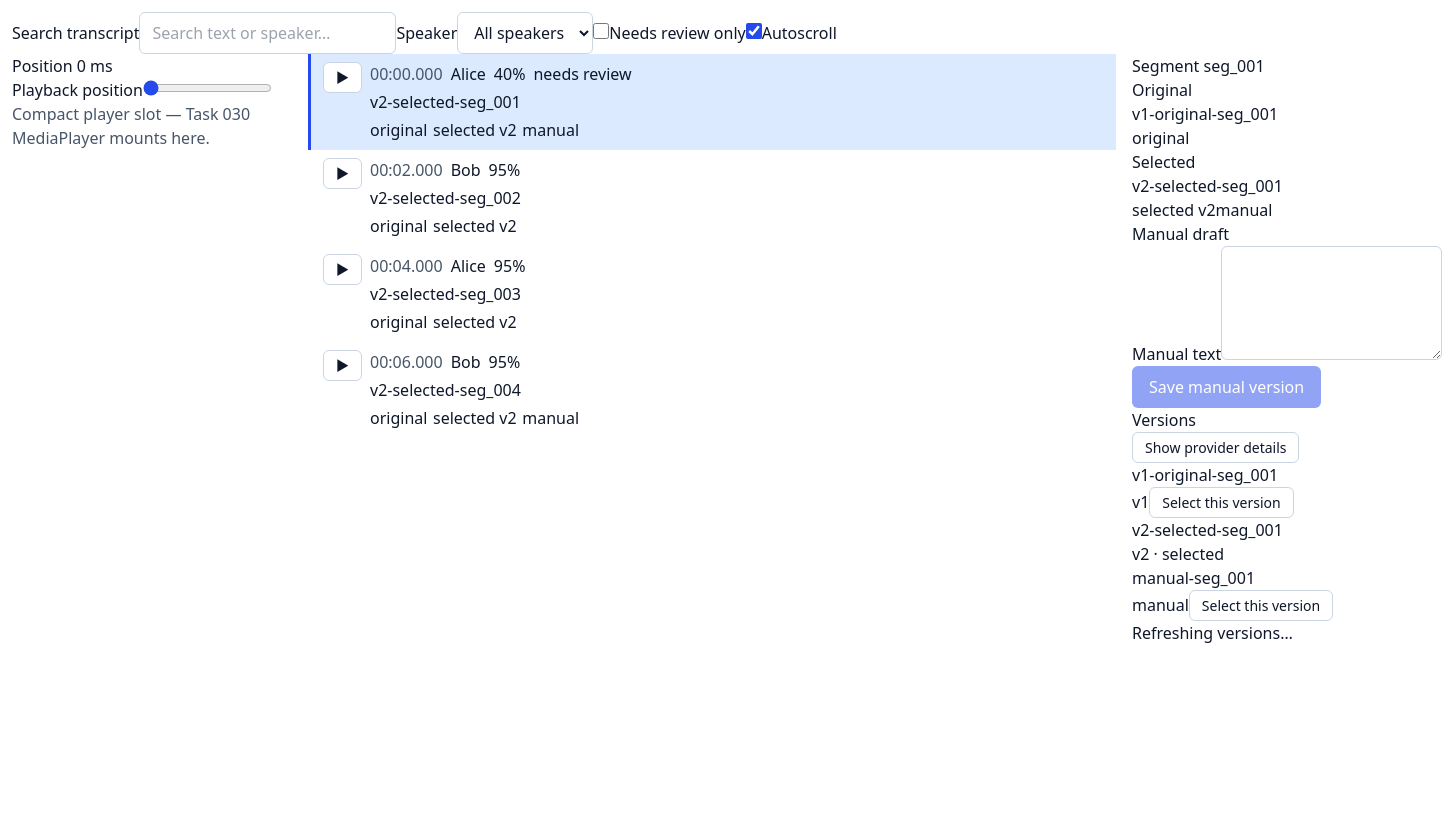
it: select-version flow (R2) › shows the stale banner, refetches, and keeps the draft on 409
expect the option with test id "transcript-row-seg_001" is shown: met, box [308,54,1116,150]
Type "keep me" into the text box with test id "transcript-manual-draft" at (1332, 303), box [1221,246,1442,360]
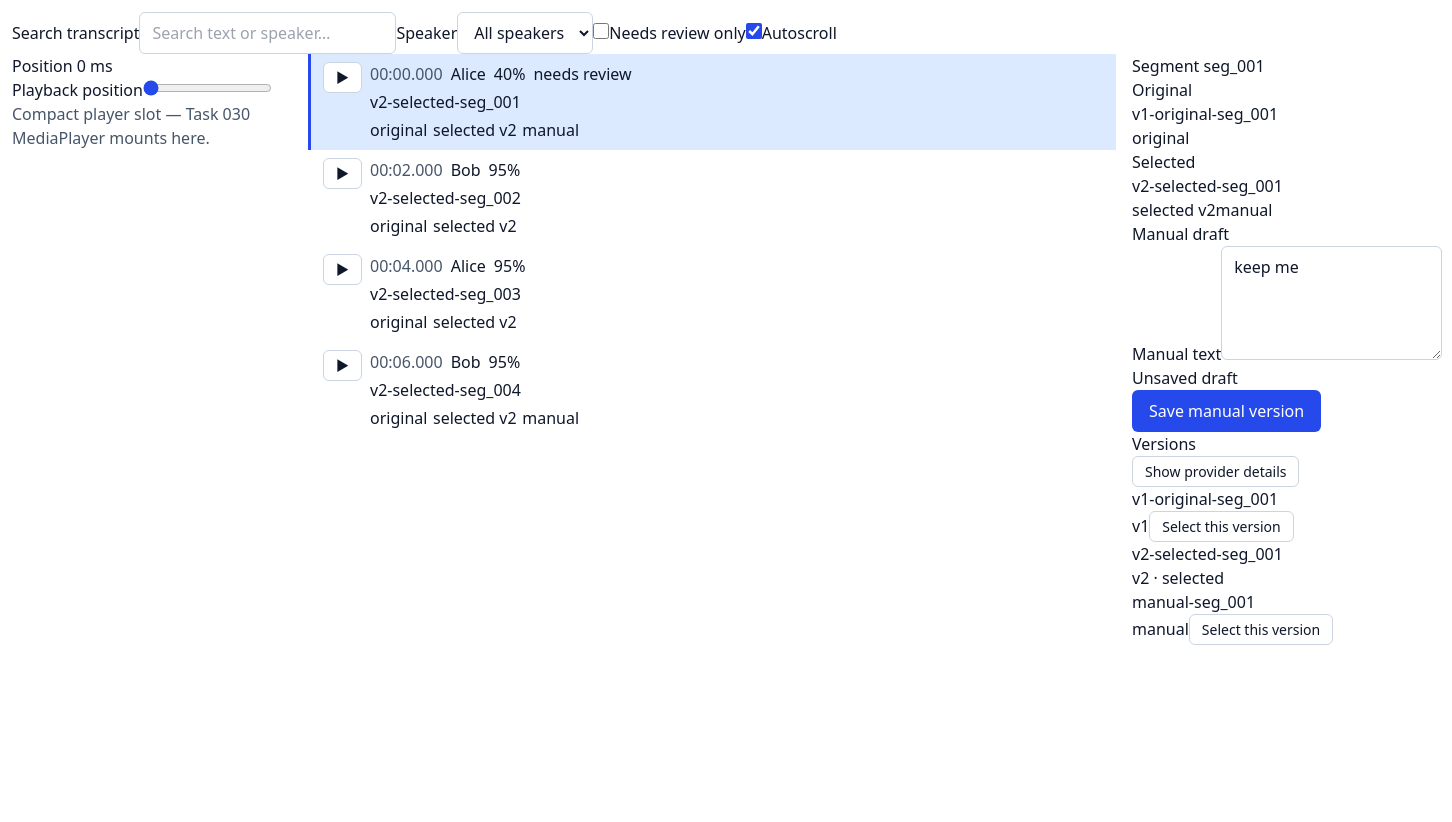
Click the button with test id "transcript-select-version-seg_001-v1" at (1222, 526), box [1149,511,1294,542]
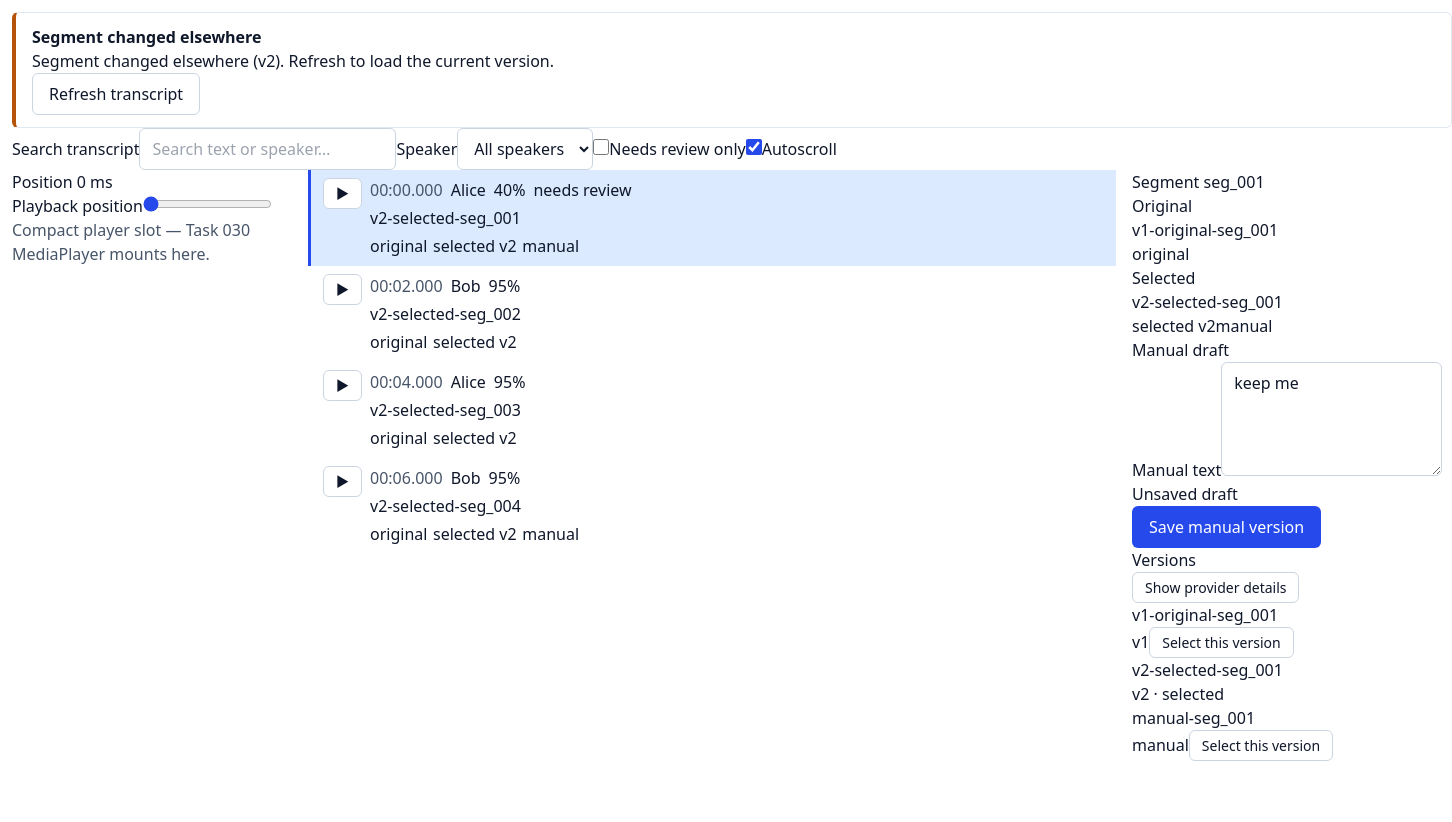
expect the element with test id "transcript-stale-banner" is shown: met, box [12,12,1451,128]
Click the button with test id "transcript-stale-refresh" at (116, 94), box [32,73,200,115]
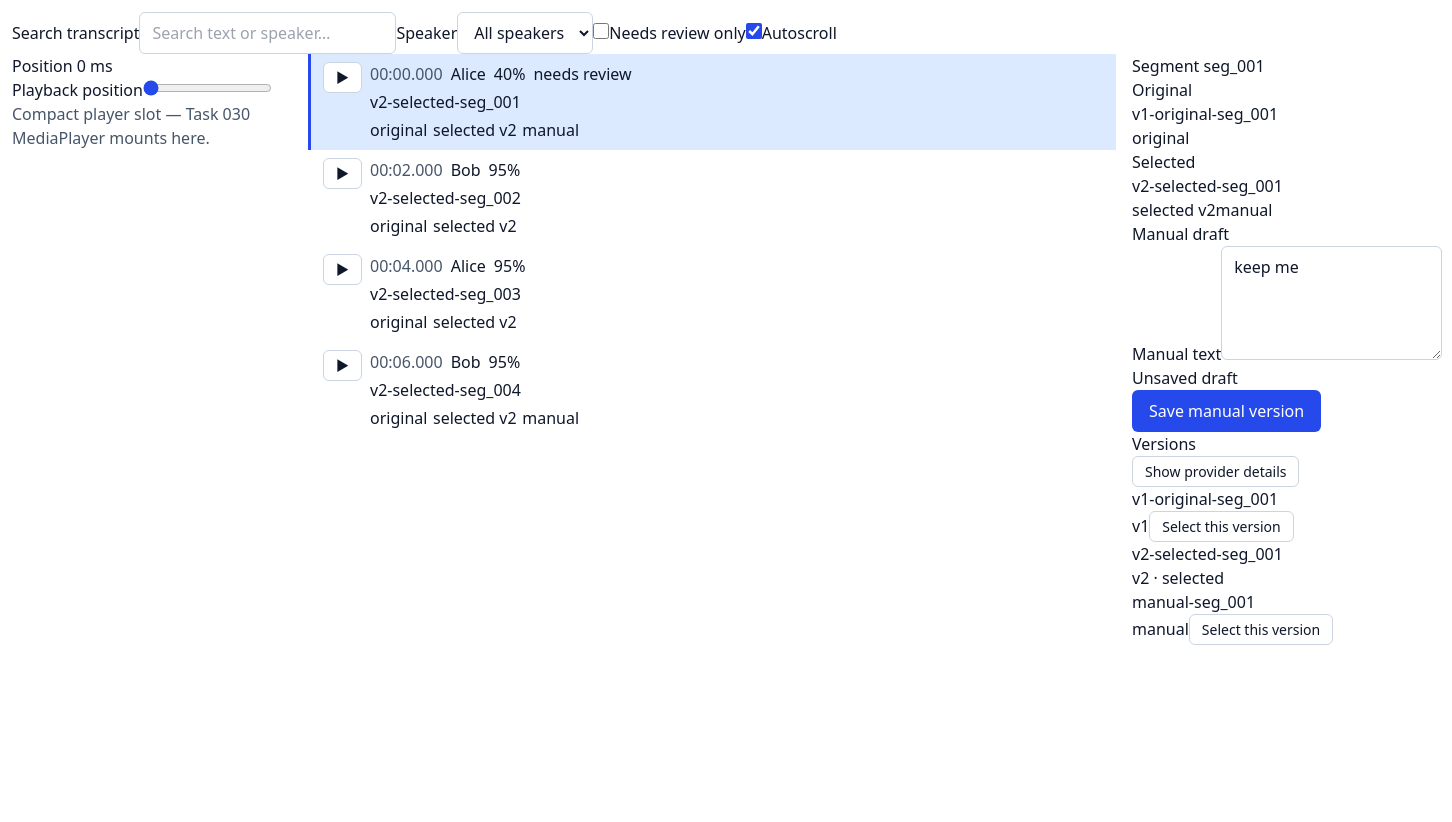
expect the element with test id "transcript-stale-banner" is gone: met
